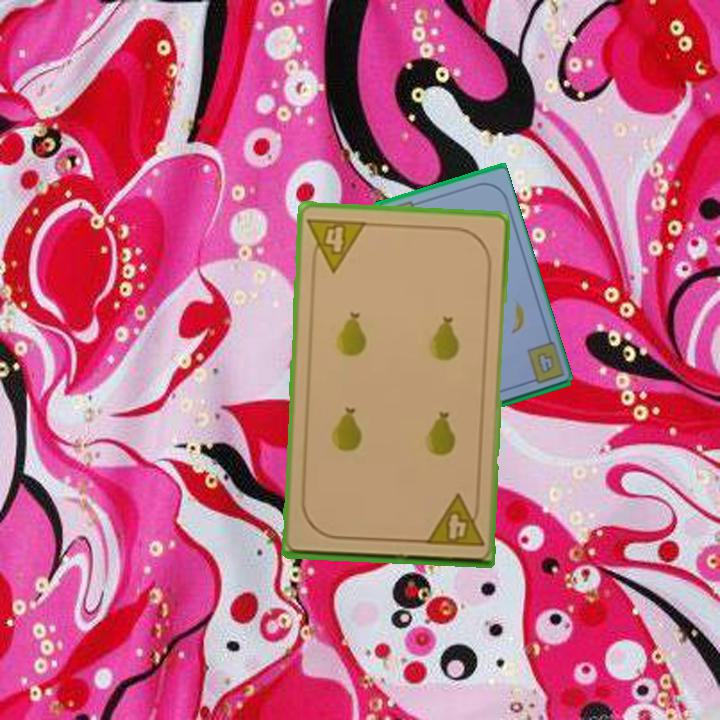4b: (533, 348, 557, 376)
4p: (304, 214, 369, 275), (421, 492, 486, 550)
